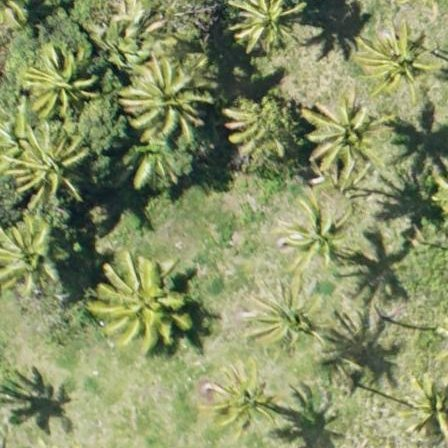palm_tree: (98, 251, 188, 347), (129, 55, 205, 136), (309, 97, 380, 173), (1, 214, 65, 295), (284, 192, 352, 265), (222, 87, 288, 158), (247, 277, 313, 347), (213, 364, 276, 431), (360, 21, 422, 87), (17, 130, 77, 194), (31, 53, 90, 115), (232, 1, 293, 50), (404, 372, 448, 439)
